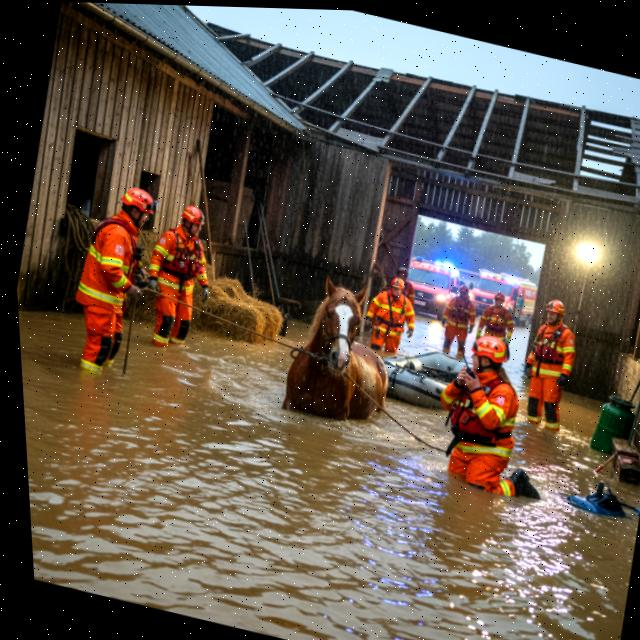horse: (255, 257, 423, 445)
rescuer: (34, 161, 190, 407), (414, 318, 574, 514), (124, 183, 240, 365), (502, 283, 602, 450), (355, 263, 435, 369), (424, 273, 492, 370), (475, 282, 527, 346)
